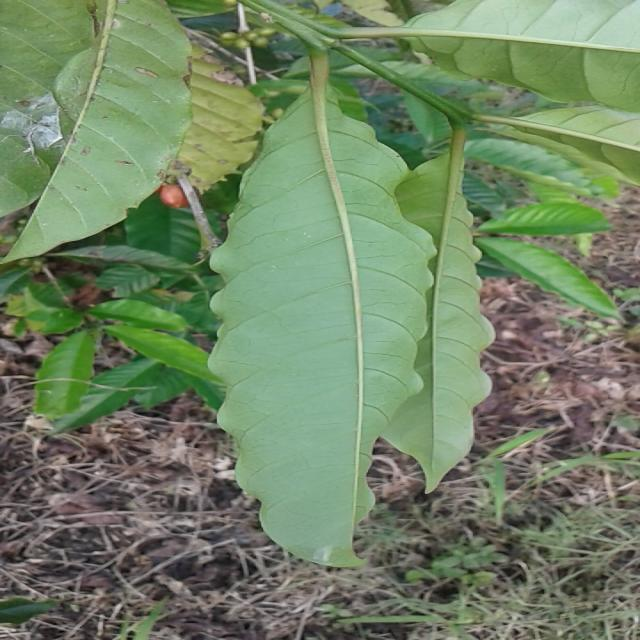Sanas: (211, 54, 440, 572)
